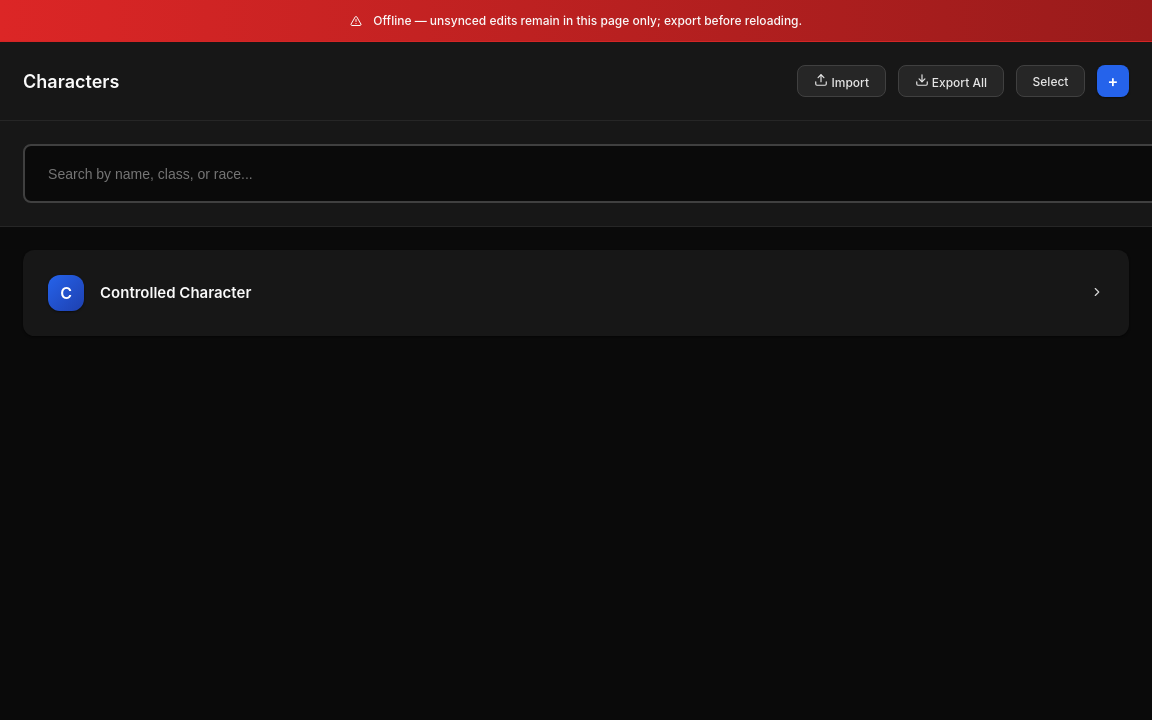
CharacterPanel › Permissions and Ownership › shows appropriate controls for controlled characters
// Expand by clicking the expand button
Step 1. Click the button with aria-label "expand controlled character" → (66, 293), box [25,252,1127,334]
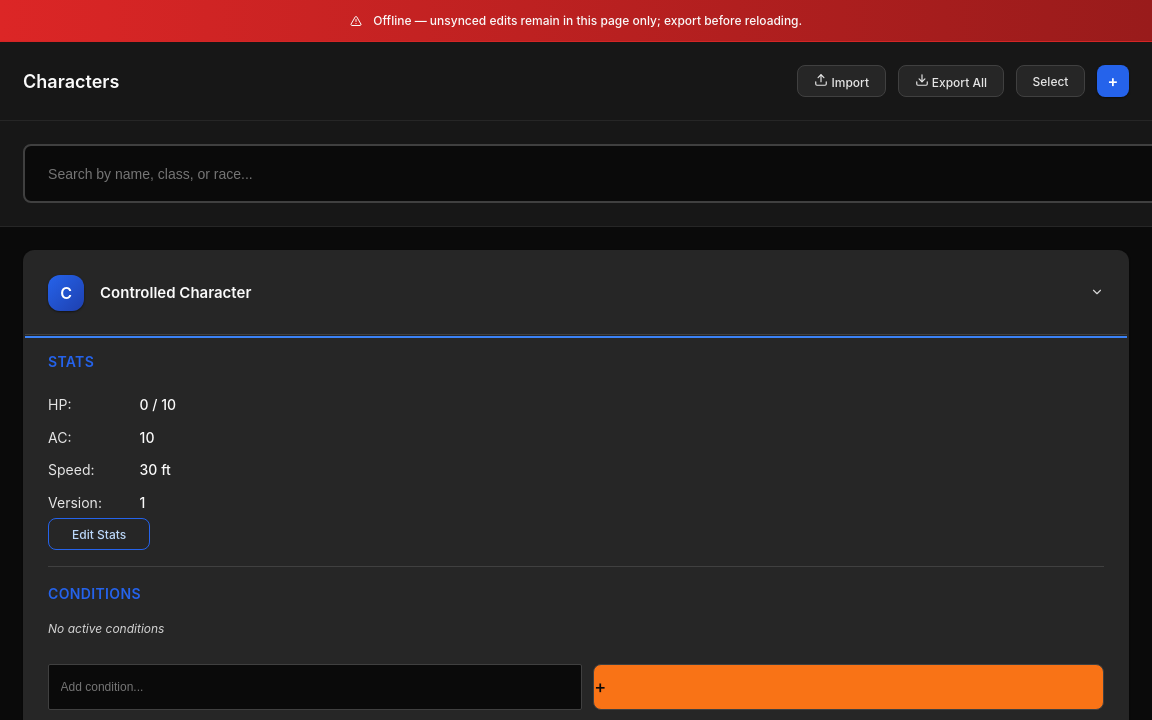
Now the button with aria-label "collapse controlled character" is expanded, box [25,252,1127,334]
